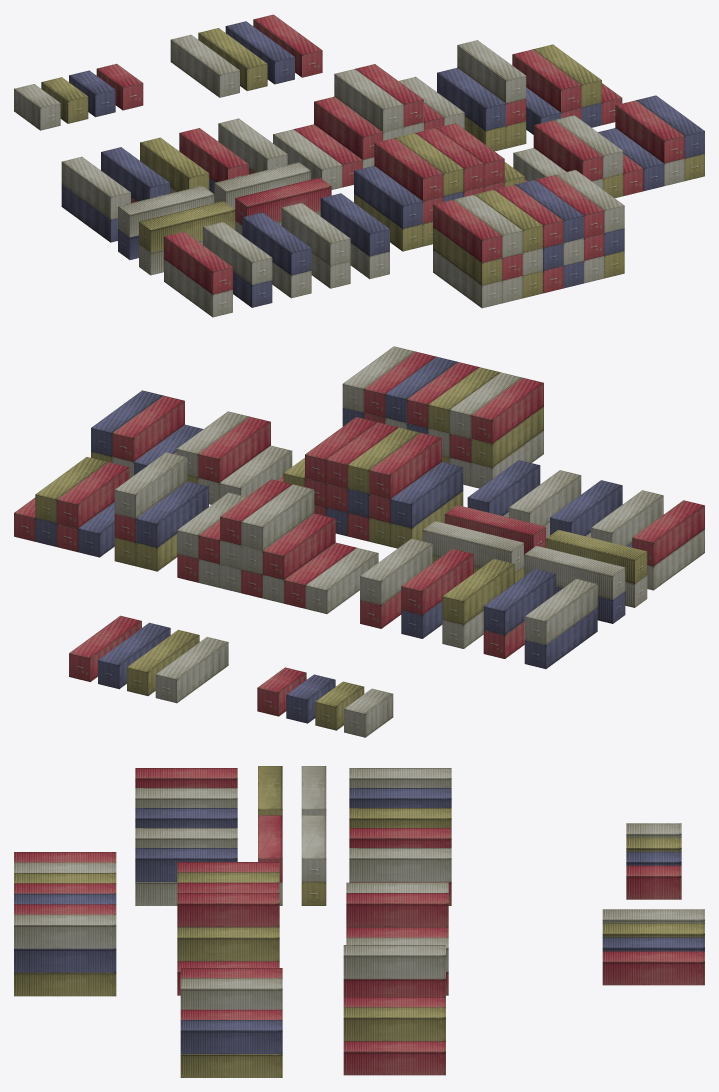
The model's file is containers.glb.
3 views of the same model, one above another, from view 1: azimuth 30°, elevation 25°; view 2: azimuth 150°, elevation 25°; view 3: azimuth 270°, elevation 25° (orthographic). The views are drawn at different scales.
Parts seen in each view (by area): view 1: Object_2; view 2: Object_2; view 3: Object_2.
Boxes of the visible parts, x1=… form: Object_2: x1=14, y1=14, x2=704, y2=317; Object_2: x1=14, y1=346, x2=704, y2=737; Object_2: x1=14, y1=766, x2=704, y2=1077.
Bounding box in the file's own units: 5.48 × 0.6887 × 6.06.
Materials: 1 (1 with a texture image).
